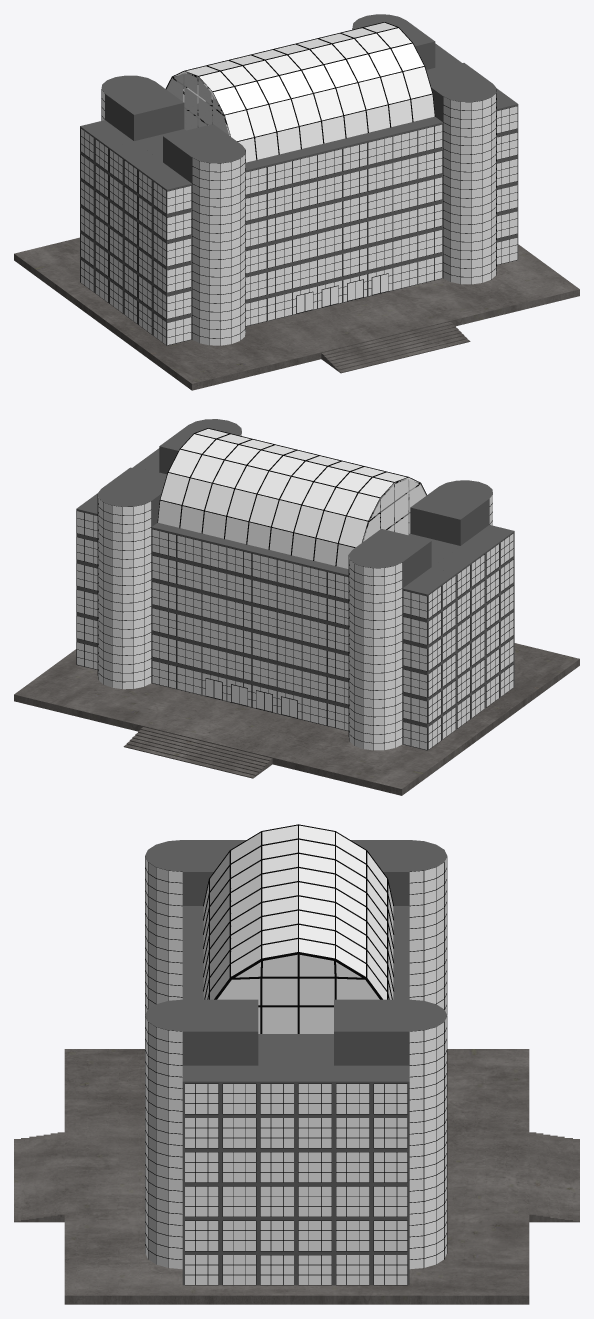
File: Mall.glb
3 views of the same model, one above another, from view 1: azimuth 30°, elevation 25°; view 2: azimuth 150°, elevation 25°; view 3: azimuth 270°, elevation 25° (orthographic). The views are drawn at different scales.
Visible parts, largest first — view 1: Plane.022, Plane.002, Plane.001; view 2: Plane.022, Plane.002, Plane.001; view 3: Plane.022, Plane.002, Plane.001.
Boxes of the visible parts, x1,y1,x2,y2 form: Plane.022: [80, 14, 518, 345]; Plane.002: [14, 237, 579, 390]; Plane.001: [165, 22, 435, 162]; Plane.022: [76, 419, 514, 750]; Plane.002: [14, 643, 579, 795]; Plane.001: [157, 428, 426, 568]; Plane.022: [145, 840, 447, 1285]; Plane.002: [14, 1049, 579, 1304]; Plane.001: [203, 824, 394, 1033].
Size of the model in its own units: 54.7 by 30.41 by 53.01.
Materials: 4 (1 with a texture image).
